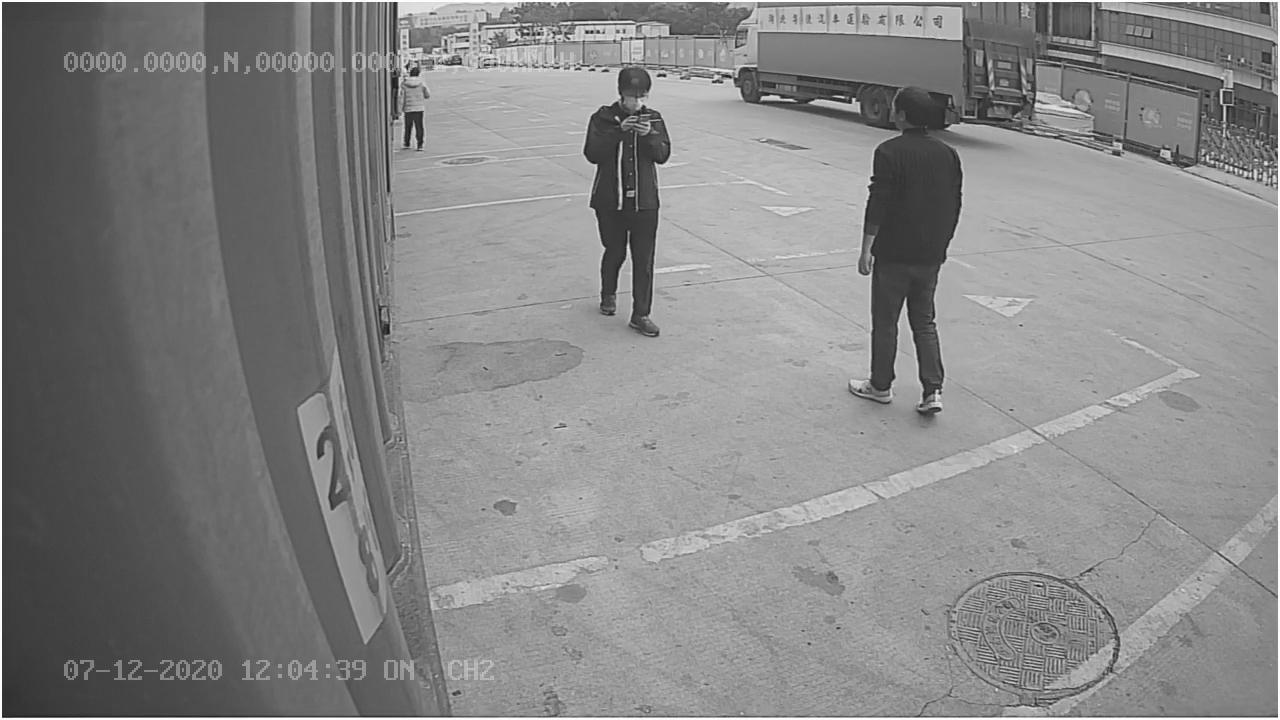person: (582, 62, 675, 346)
